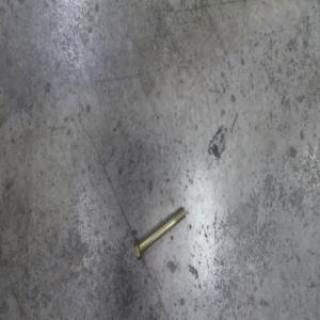Bolttrack_idkeyframe: (132, 202, 185, 264)
